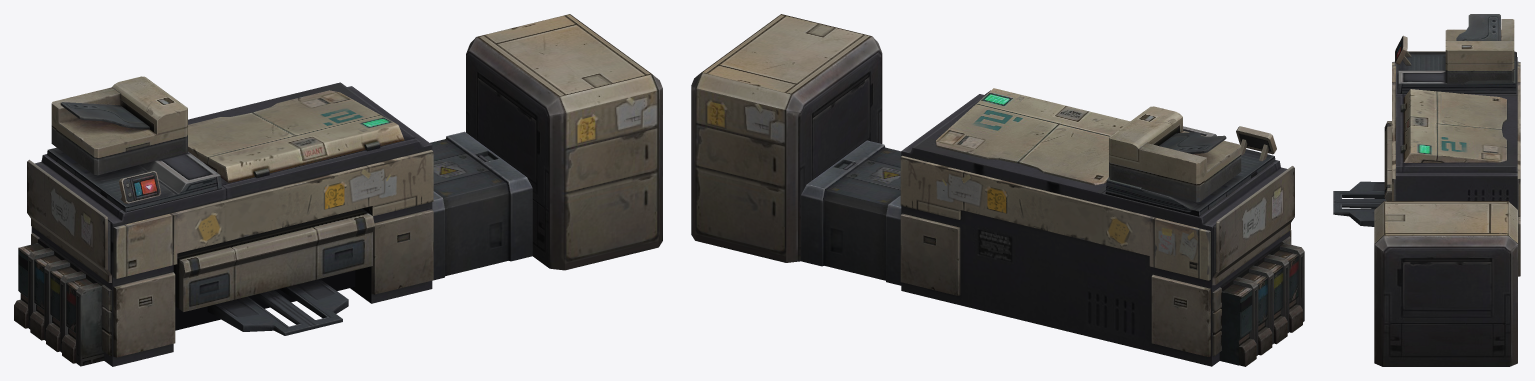
The model's file is mf_blueprintprinter003.FBX.
3 renders of one model, left to right at view 1: azimuth 30°, elevation 25°; view 2: azimuth 150°, elevation 25°; view 3: azimuth 270°, elevation 25°, orthographic. The views are drawn at different scales.
Visible parts, largest first — view 1: mf_blueprintprinter003; view 2: mf_blueprintprinter003; view 3: mf_blueprintprinter003.
Boxes of the visible parts, x1=… form: mf_blueprintprinter003: x1=14, y1=14, x2=662, y2=366; mf_blueprintprinter003: x1=691, y1=14, x2=1304, y2=366; mf_blueprintprinter003: x1=1333, y1=14, x2=1520, y2=366.
Size of the model in its own units: 4.68 by 1.66 by 1.77.
